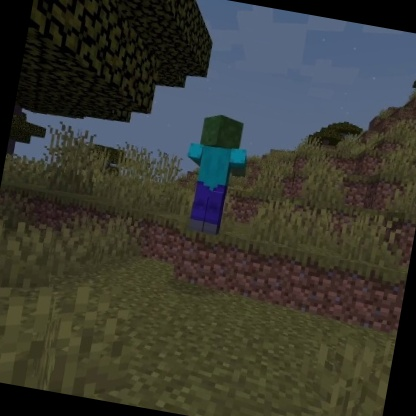zombie: (171, 107, 258, 244)
